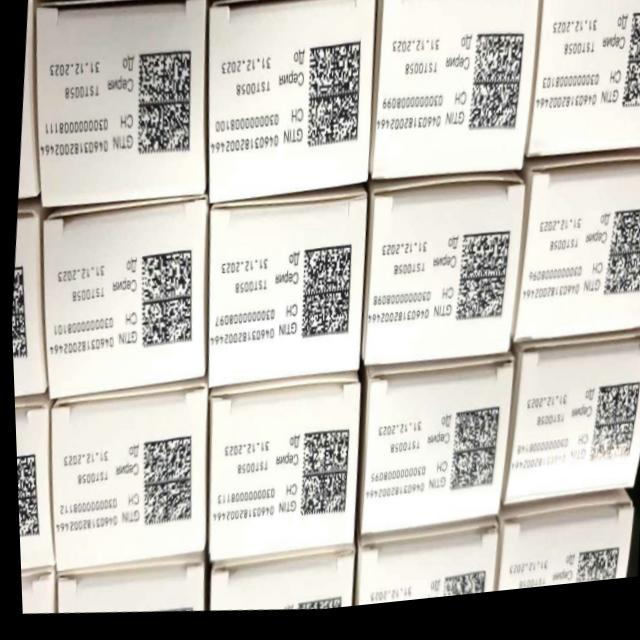datamatrix: (122, 34, 203, 174), (295, 35, 370, 166), (459, 26, 530, 152), (129, 244, 201, 361), (129, 428, 200, 538), (291, 243, 355, 351), (449, 233, 512, 340), (290, 428, 353, 531), (442, 409, 502, 506), (581, 387, 640, 484), (596, 217, 640, 317), (615, 16, 640, 131)
